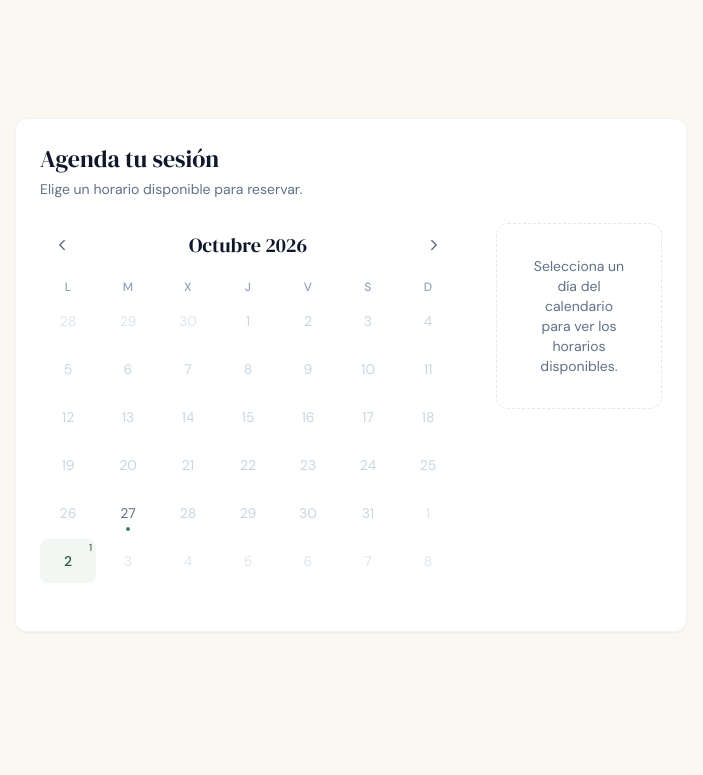
Test: PublicBookingPage — public-scheduling Req: Public Availability Read Endpoint › un 409 al confirmar la reserva refresca la disponibilidad y avisa que el horario ya no está libre
Step 1. Click the button "2 1" → (68, 561), box [40,539,96,583]
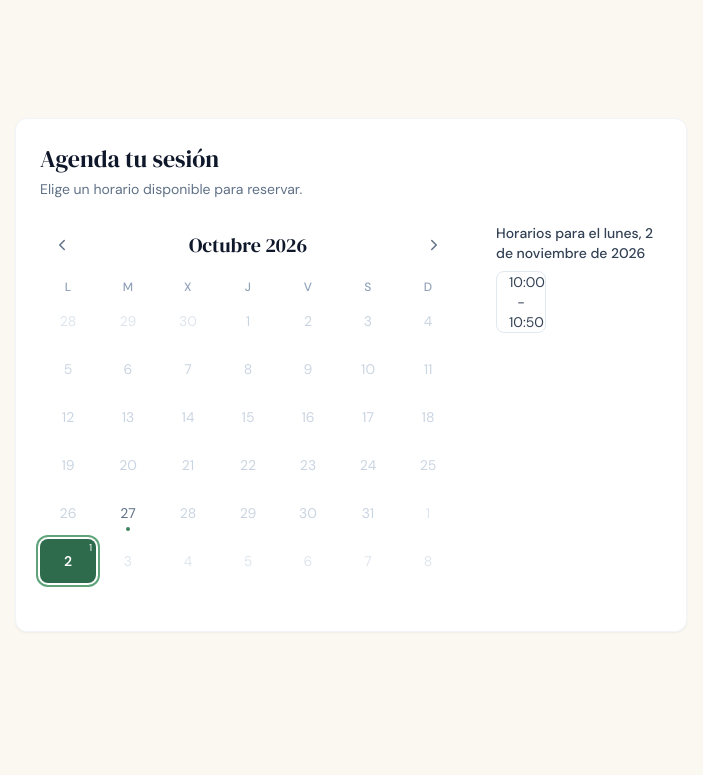
Step 2. Click the button "10:00 - 10:50" → (521, 302), box [496,271,546,333]
(page scrolled)
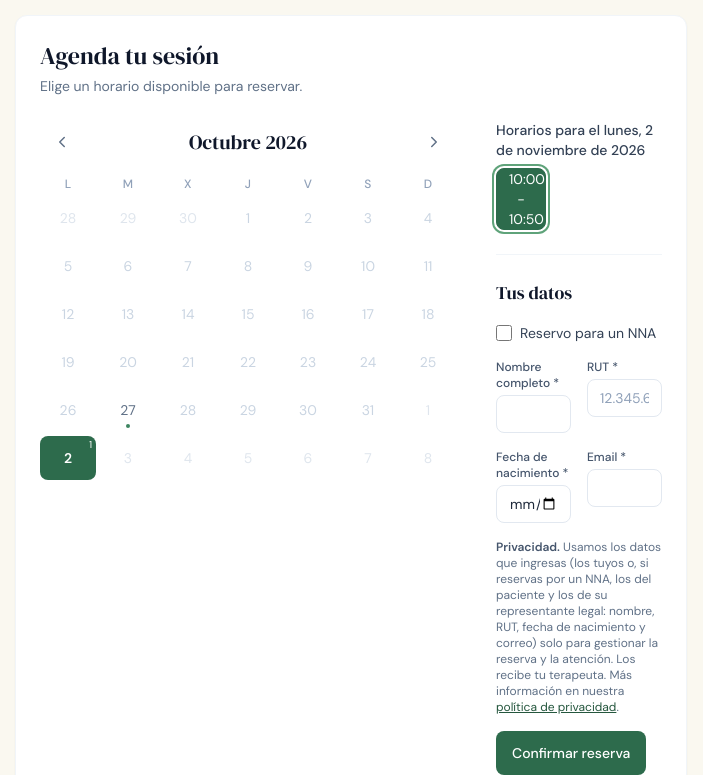
Step 3. Type "Juana Pérez" into the field labelled "Nombre completo *" → (534, 414), box [496,395,571,433]
Step 4. Type "12345678-5" into the field labelled "RUT *" → (624, 398), box [587,379,662,417]
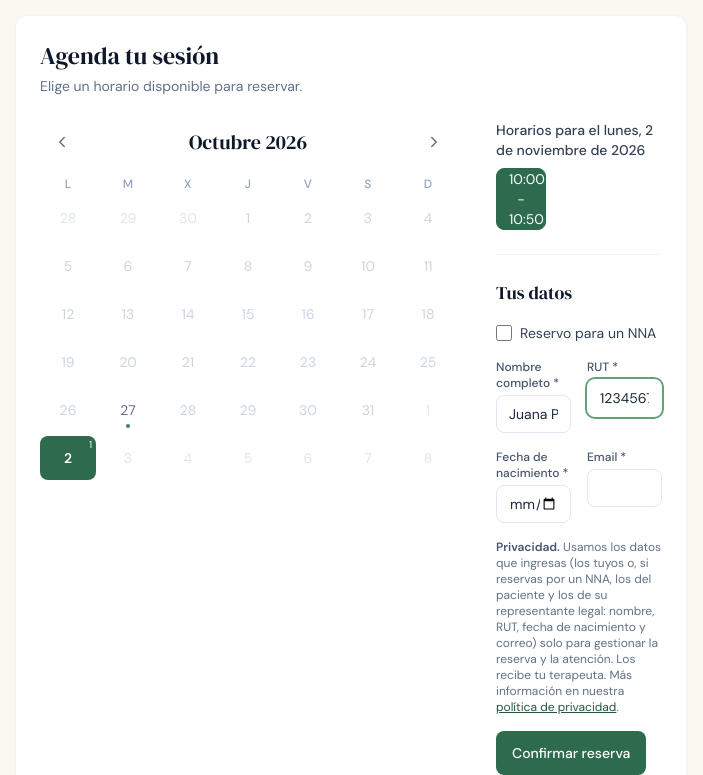
Step 5. Type "1990-05-01" into the date field labelled "Fecha de nacimiento *" → (534, 504), box [496,485,571,523]
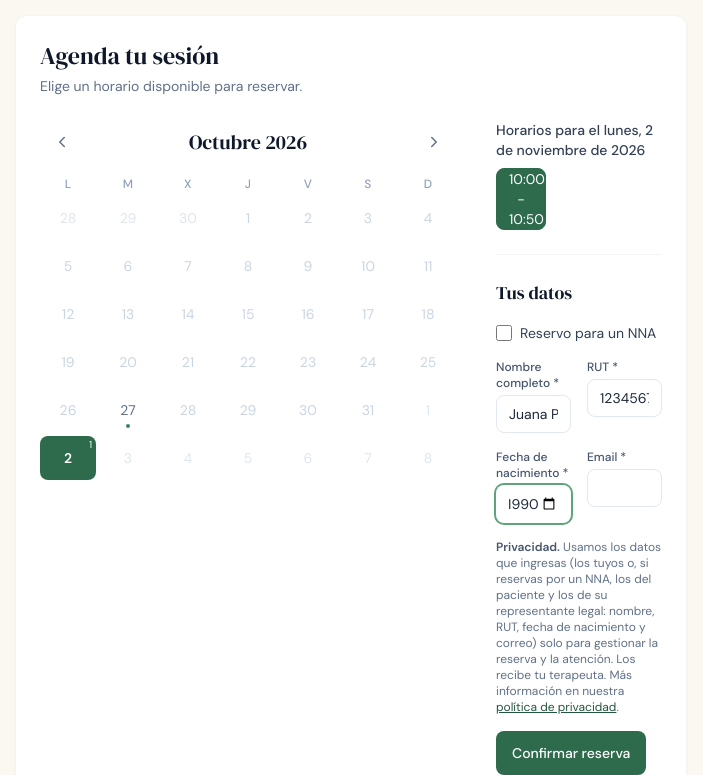
Step 6. Type "choque@example.com" into the field labelled "Email *" → (624, 488), box [587,469,662,507]
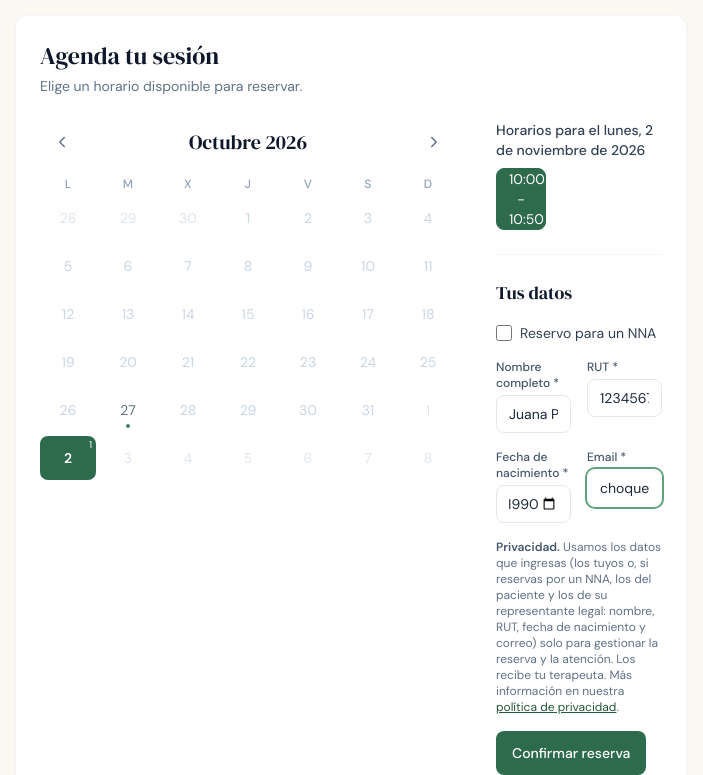
Step 7. Click the button "Confirmar reserva" → (571, 753), box [496,731,646,774]
(page scrolled)
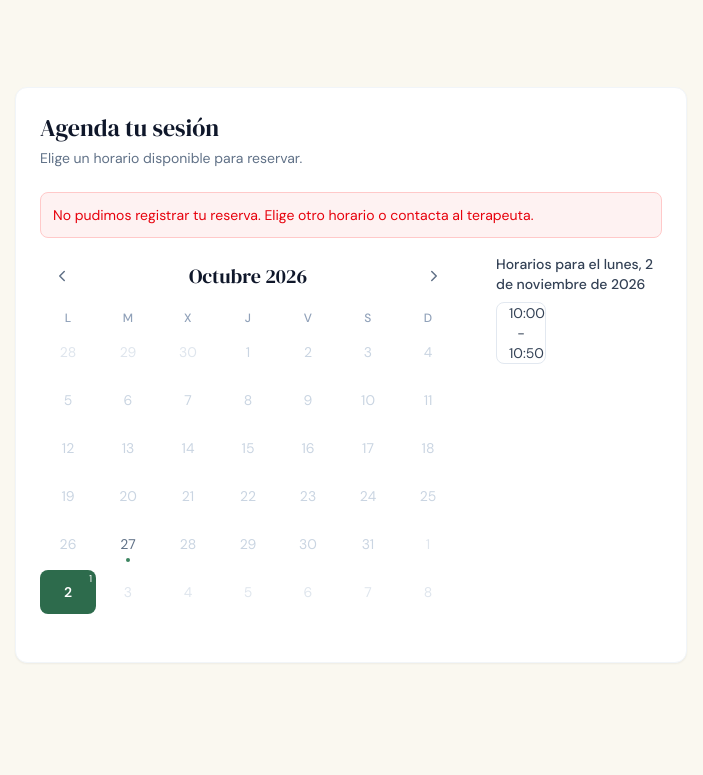
Expected: the text "No pudimos registrar tu reserva. Elige otro horario o contacta al terapeuta." is shown, [53,206,534,224]
